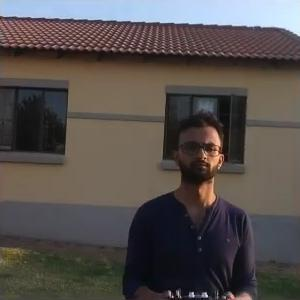follow: (115, 100, 260, 298)
